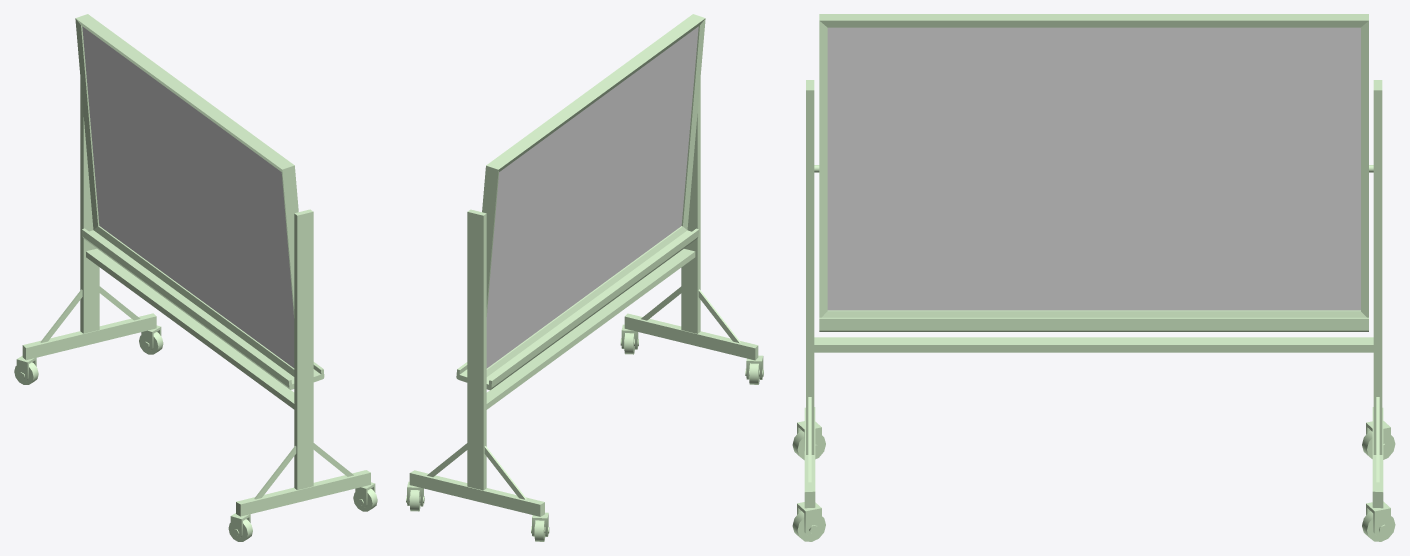
Rendered from WhiteBoard.fbx.
3 renders of one model, left to right at view 1: azimuth 30°, elevation 25°; view 2: azimuth 150°, elevation 25°; view 3: azimuth 270°, elevation 25°, orthographic. The views are drawn at different scales.
Visible parts, largest first — view 1: med_blackboard; view 2: med_blackboard; view 3: med_blackboard.
Part boxes in pixels (box(x1,y1,x2,y2)): med_blackboard: box(14, 14, 377, 541); med_blackboard: box(406, 14, 763, 541); med_blackboard: box(792, 14, 1395, 541).
Size of the model in its own units: 496 by 1196 by 1374.
